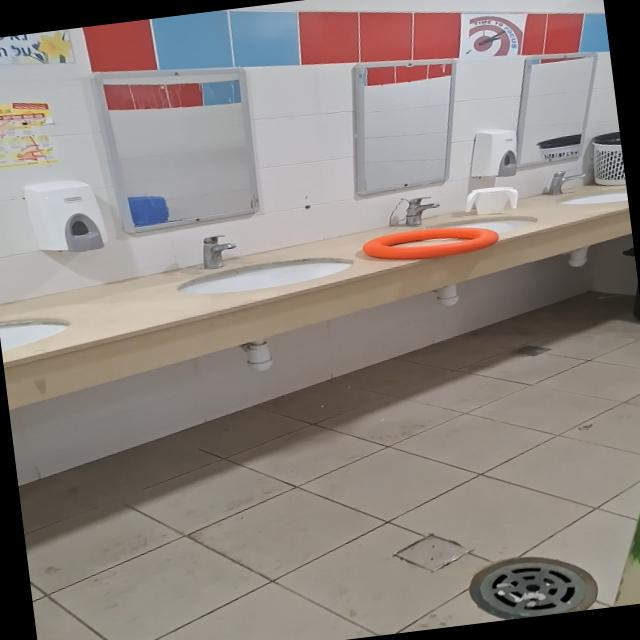note: (358, 218, 501, 266)
